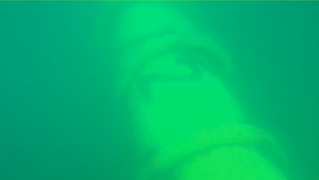2: (137, 56, 202, 107)
pipe: (94, 1, 292, 179)
